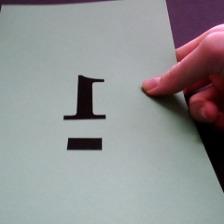green1: (58, 66, 113, 154)
